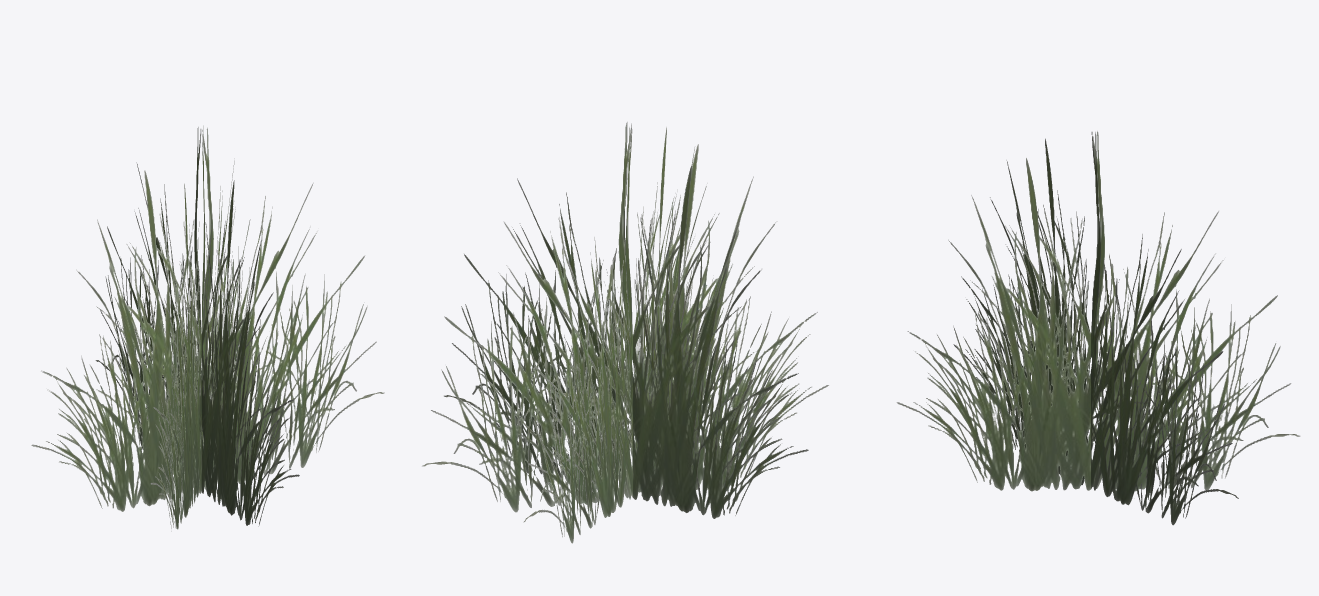
Rendered from grass_mesh.fbx.
The picture shows the model from 3 angles, left to right: view 1: azimuth 30°, elevation 25°; view 2: azimuth 150°, elevation 25°; view 3: azimuth 270°, elevation 25°; orthographic projection. The views are drawn at different scales.
Visible parts, largest first — view 1: grass_mesh; view 2: grass_mesh; view 3: grass_mesh.
Part boxes in pixels (left/top/right/bottom): grass_mesh: left=31, top=125, right=384, bottom=531; grass_mesh: left=422, top=122, right=828, bottom=543; grass_mesh: left=896, top=131, right=1300, bottom=525.
Bounding box in the file's own units: 200 × 200 × 200.
1 material, 1 textured.
